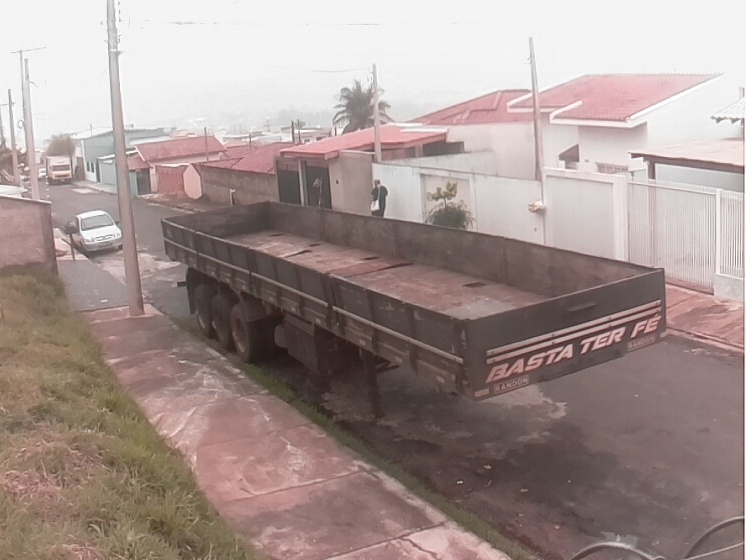person: (369, 177, 390, 219)
